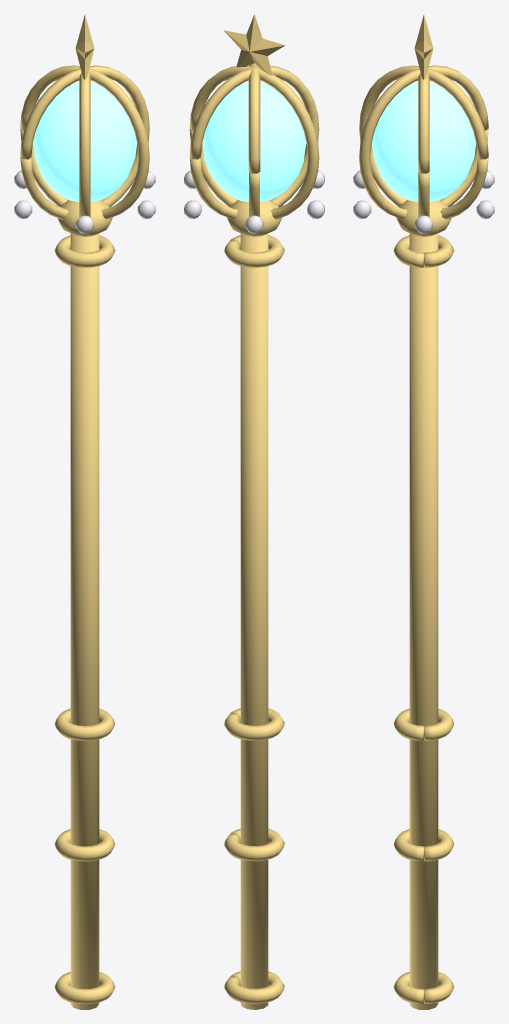
File: QueenScepter.fbx
3 renders of one model, left to right at view 1: azimuth 90°, elevation 25°; view 2: azimuth 150°, elevation 25°; view 3: azimuth 270°, elevation 25°, orthographic.
Visible parts, largest first — view 1: QueenScepter; view 2: QueenScepter; view 3: QueenScepter.
Part boxes in pixels (bbox=[...]): QueenScepter: bbox=[14, 15, 155, 1009]; QueenScepter: bbox=[184, 14, 324, 1009]; QueenScepter: bbox=[353, 15, 494, 1009].
Bounding box in the file's own units: 0.169 × 1.15 × 0.1489.
